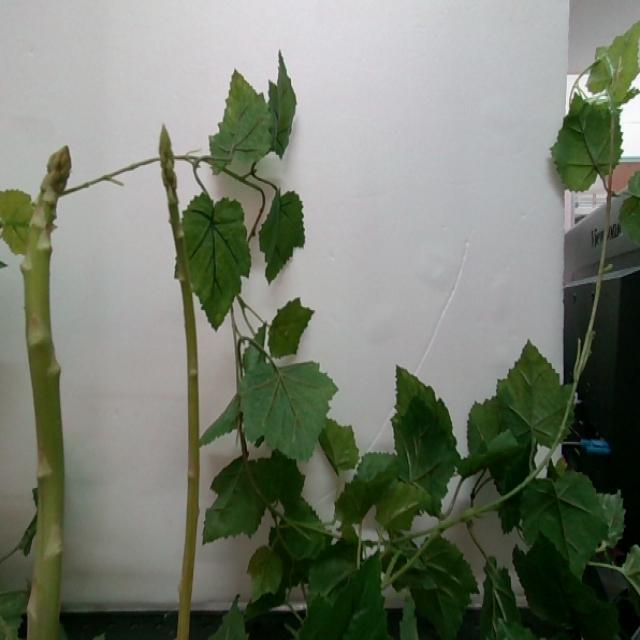aspargus: (19, 143, 71, 640), (157, 119, 200, 640)
